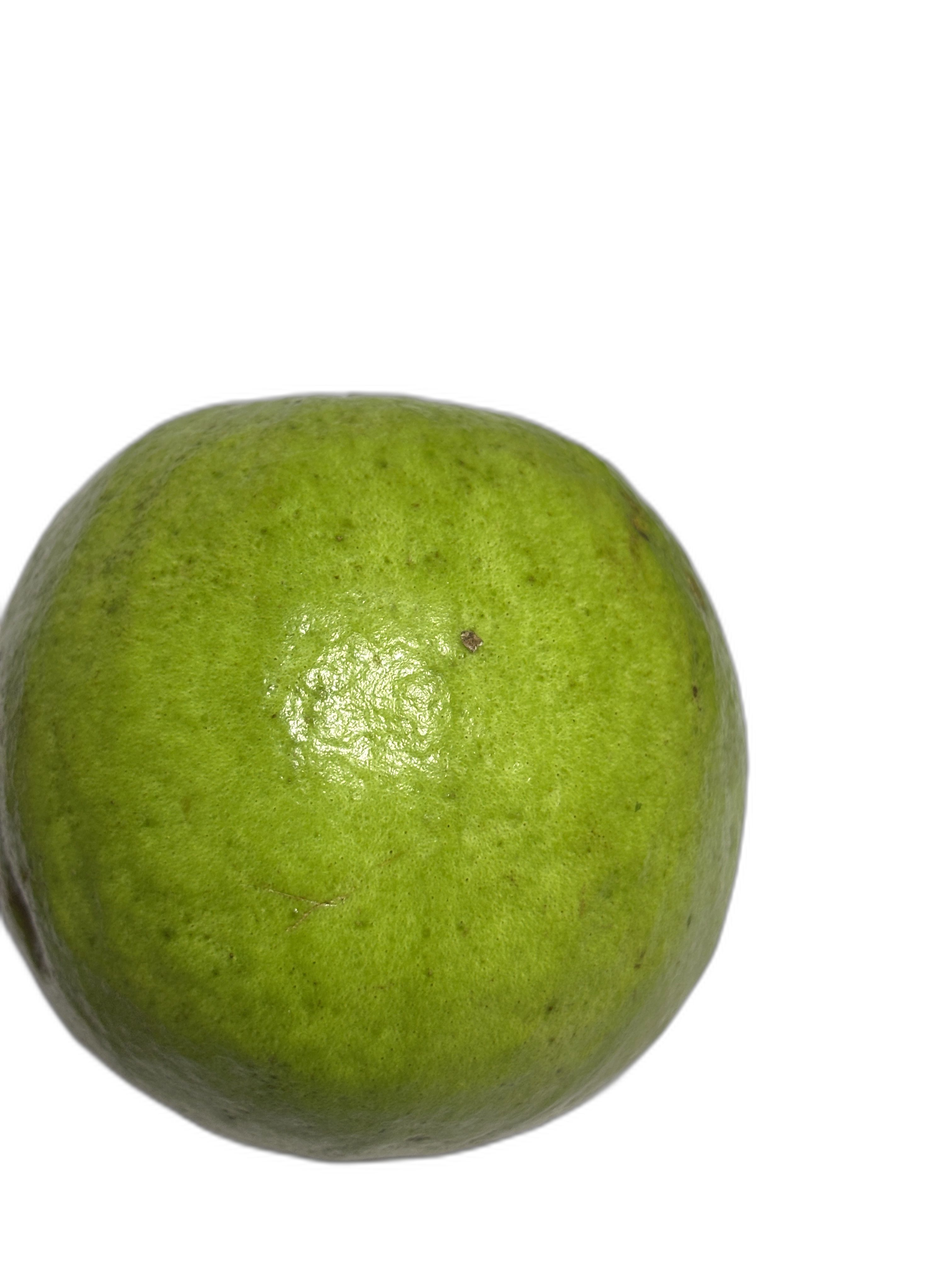guava: (191, 7, 950, 1148)
